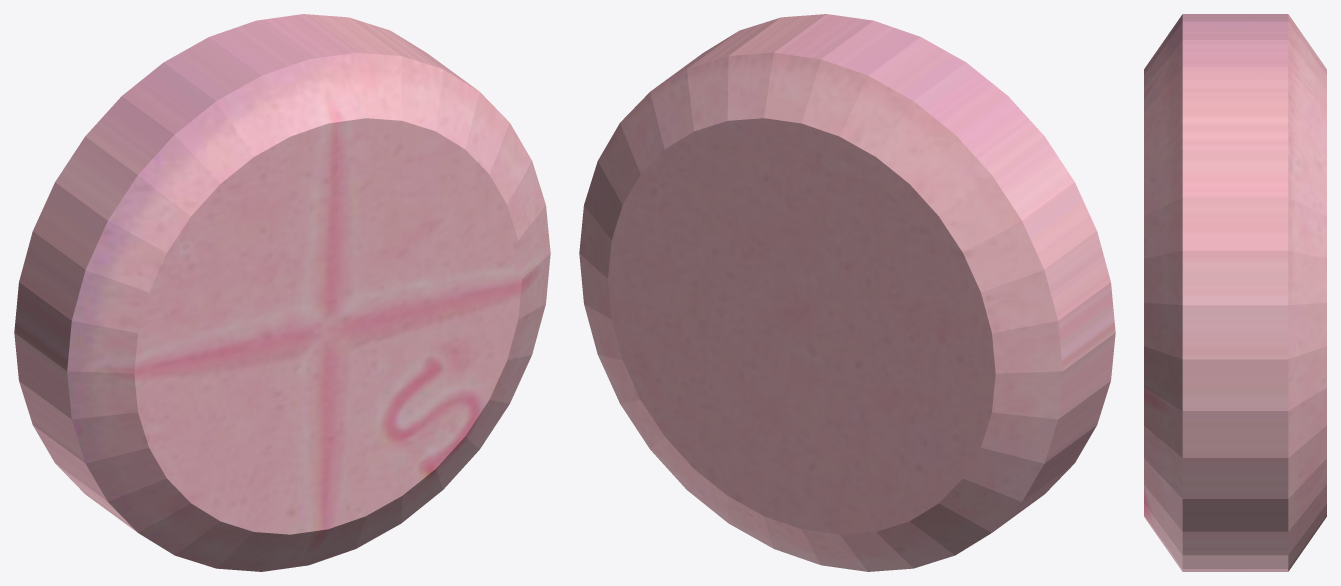
Rendered from 20180210GOPHDRGPT08147.fbx.
3 views of the same model, side by side, from view 1: azimuth 30°, elevation 25°; view 2: azimuth 150°, elevation 25°; view 3: azimuth 270°, elevation 25° (orthographic).
Parts seen in each view (by area): view 1: Cylinder; view 2: Cylinder; view 3: Cylinder.
Part boxes in pixels (x1,y1,x2,y2): Cylinder: (14,14,550,571); Cylinder: (579,14,1115,571); Cylinder: (1144,14,1326,571).
Size of the model in its own units: 0.9642 by 0.9642 by 0.3156.
